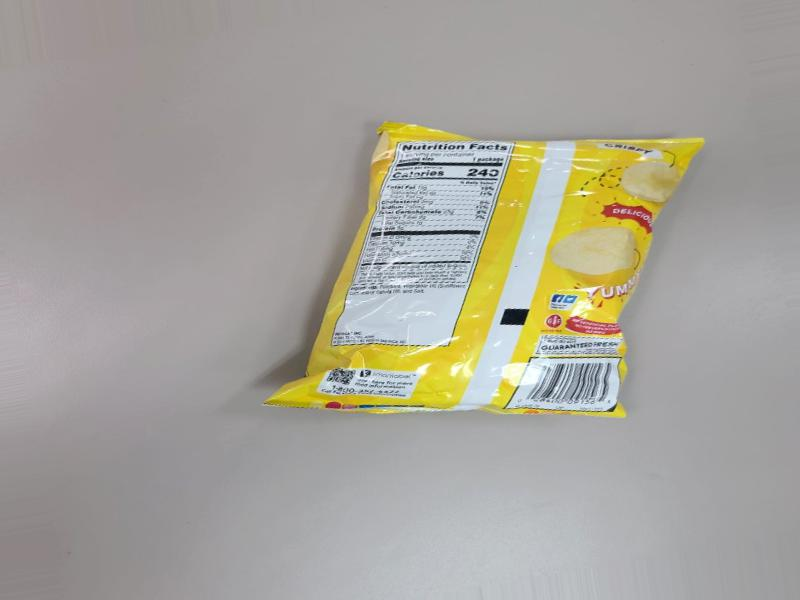lays: (272, 134, 696, 427)
